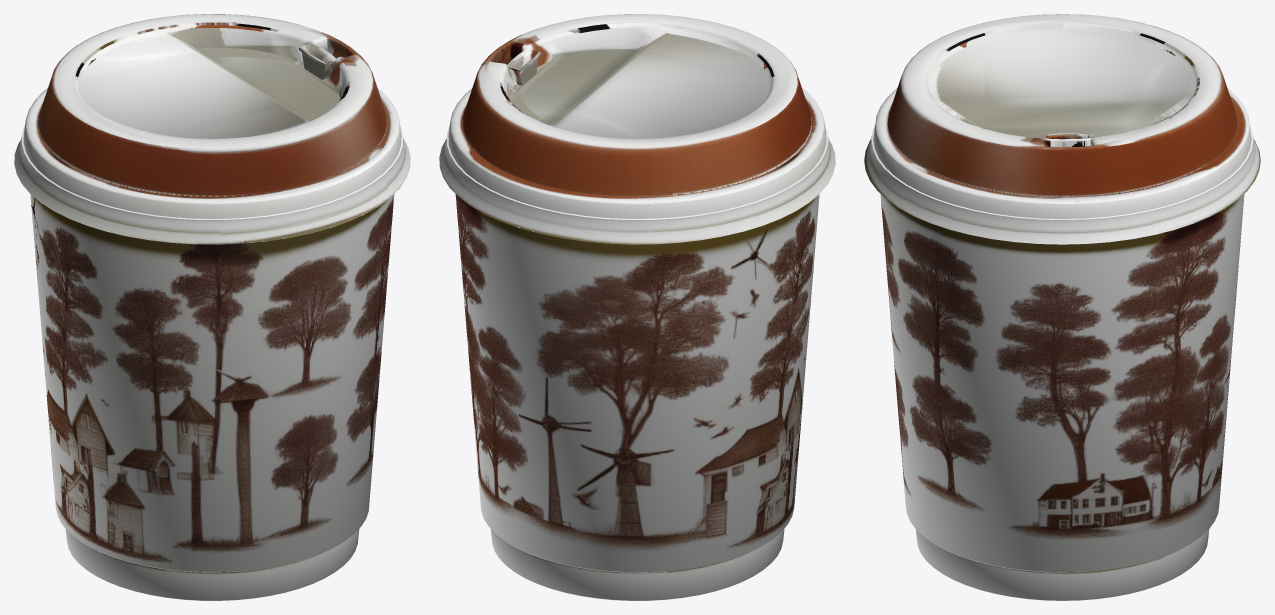
3 renders of one model, left to right at view 1: azimuth 30°, elevation 25°; view 2: azimuth 150°, elevation 25°; view 3: azimuth 270°, elevation 25°, orthographic.
Parts seen in each view (by area): view 1: textured; view 2: textured; view 3: textured.
Part boxes in pixels (x1,y1,x2,y2): textured: (14, 14, 410, 600); textured: (439, 14, 835, 600); textured: (864, 14, 1260, 600).
Size of the model in its own units: 1.57 by 2 by 1.57.
1 material, 1 textured.
